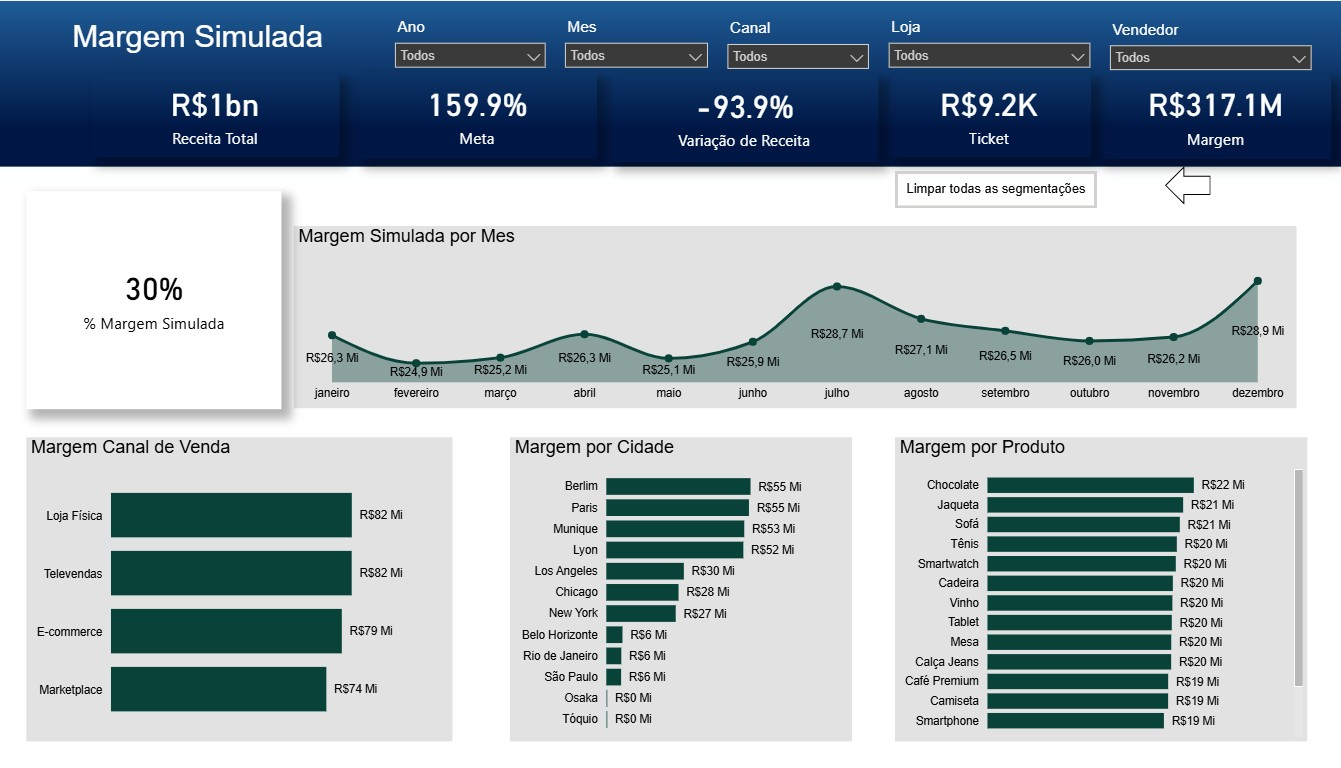

Layout of this report page (visuals, bound fields, positions):
{"tool":"powerbi","page":{"name":"Margem","canvas":[1400,800],"ordinal":4},"visuals":[{"type":"advanceCardE03760C5AB684758B56AA29F9E6C257B","fields":{"mainMeasure":["Medidas.Receita Total"]},"box":[100.3,76,256.6,86],"z":0},{"type":"advanceCardE03760C5AB684758B56AA29F9E6C257B","fields":{"mainMeasure":["Medidas.% Atingimento Meta"]},"box":[376.9,74.5,246.5,88.9],"z":1000},{"type":"advanceCardE03760C5AB684758B56AA29F9E6C257B","fields":{"mainMeasure":["Medidas.Ticket Médio"]},"box":[925.9,76,209.3,86],"z":2000},{"type":"advanceCardE03760C5AB684758B56AA29F9E6C257B","fields":{"mainMeasure":["Medidas.Margem Simulada"]},"box":[1145.2,76,239.4,87.4],"z":3000},{"type":"advanceCardE03760C5AB684758B56AA29F9E6C257B","fields":{"mainMeasure":["Medidas.% Crescimento YoY (Correto)"]},"box":[639.2,76,276.6,90.3],"z":4000},{"type":"stackedAreaChart","fields":{"Category":["d_Calendario.Mes"],"Y":["Medidas.Margem Simulada"]},"box":[309.6,233.6,1039.1,189.2],"z":5000},{"type":"advanceCardE03760C5AB684758B56AA29F9E6C257B","fields":{"mainMeasure":["Medidas.% Margem Simulada"]},"box":[33,196.4,265.2,226.5],"z":6000},{"type":"clusteredBarChart","title":"Margem Canal de Venda","fields":{"Y":["Medidas.Margem Simulada"],"Category":["d_canal.canal_de_venda"]},"box":[33,451.5,441.4,315.3],"z":7000},{"type":"clusteredBarChart","title":"Margem por Cidade","fields":{"Y":["Medidas.Margem Simulada"],"Category":["d_localizacao.cidade"]},"box":[533.2,451.5,354,315.3],"z":8000},{"type":"clusteredBarChart","title":"Margem por Produto","fields":{"Y":["Medidas.Margem Simulada"],"Category":["d_produto.nome_produto"]},"box":[933,451.5,427.1,315.3],"z":9000},{"type":"slicer","fields":{"Values":["d_tempo.ano"]},"box":[404,13,176.6,89],"z":10000},{"type":"slicer","fields":{"Values":["d_Calendario.Mes"]},"box":[580.6,13,168.1,90.4],"z":11000},{"type":"slicer","fields":{"Values":["d_canal.canal_de_venda"]},"box":[748.8,14.4,166.7,89],"z":12000},{"type":"slicer","fields":{"Values":["d_loja.nome_loja"]},"box":[915.5,13,228.9,89],"z":13000},{"type":"slicer","fields":{"Values":["d_vendedor.nome_vendedor"]},"box":[1144.9,15.8,228.9,87.6],"z":14000},{"type":"textbox","box":[74.5,14.3,305.3,74.5],"z":15000},{"type":"shape","box":[1212.5,170.6,47.3,40.1],"z":16000},{"type":"actionButton","box":[933,176.3,209.3,38.7],"z":17000}]}

Visuals, with their boxes in screenshot pixels (x1, y1, x2, y2), scaled from the page's 1400x800 canvas onto the 1341x768 screenshot:
advanceCardE03760C5AB684758B56AA29F9E6C257B - Medidas.Receita Total: box=[96, 73, 342, 156]
advanceCardE03760C5AB684758B56AA29F9E6C257B - Medidas.% Atingimento Meta: box=[361, 72, 597, 157]
advanceCardE03760C5AB684758B56AA29F9E6C257B - Medidas.Ticket Médio: box=[887, 73, 1087, 156]
advanceCardE03760C5AB684758B56AA29F9E6C257B - Medidas.Margem Simulada: box=[1097, 73, 1326, 157]
advanceCardE03760C5AB684758B56AA29F9E6C257B - Medidas.% Crescimento YoY (Correto): box=[612, 73, 877, 160]
stackedAreaChart - d_Calendario.Mes x Medidas.Margem Simulada: box=[297, 224, 1292, 406]
advanceCardE03760C5AB684758B56AA29F9E6C257B - Medidas.% Margem Simulada: box=[32, 189, 286, 406]
"Margem Canal de Venda" clusteredBarChart: box=[32, 433, 454, 736]
"Margem por Cidade" clusteredBarChart: box=[511, 433, 850, 736]
"Margem por Produto" clusteredBarChart: box=[894, 433, 1303, 736]
slicer - d_tempo.ano: box=[387, 12, 556, 98]
slicer - d_Calendario.Mes: box=[556, 12, 717, 99]
slicer - d_canal.canal_de_venda: box=[717, 14, 877, 99]
slicer - d_loja.nome_loja: box=[877, 12, 1096, 98]
slicer - d_vendedor.nome_vendedor: box=[1097, 15, 1316, 99]
textbox: box=[71, 14, 364, 85]
shape: box=[1161, 164, 1207, 202]
actionButton: box=[894, 169, 1094, 206]
